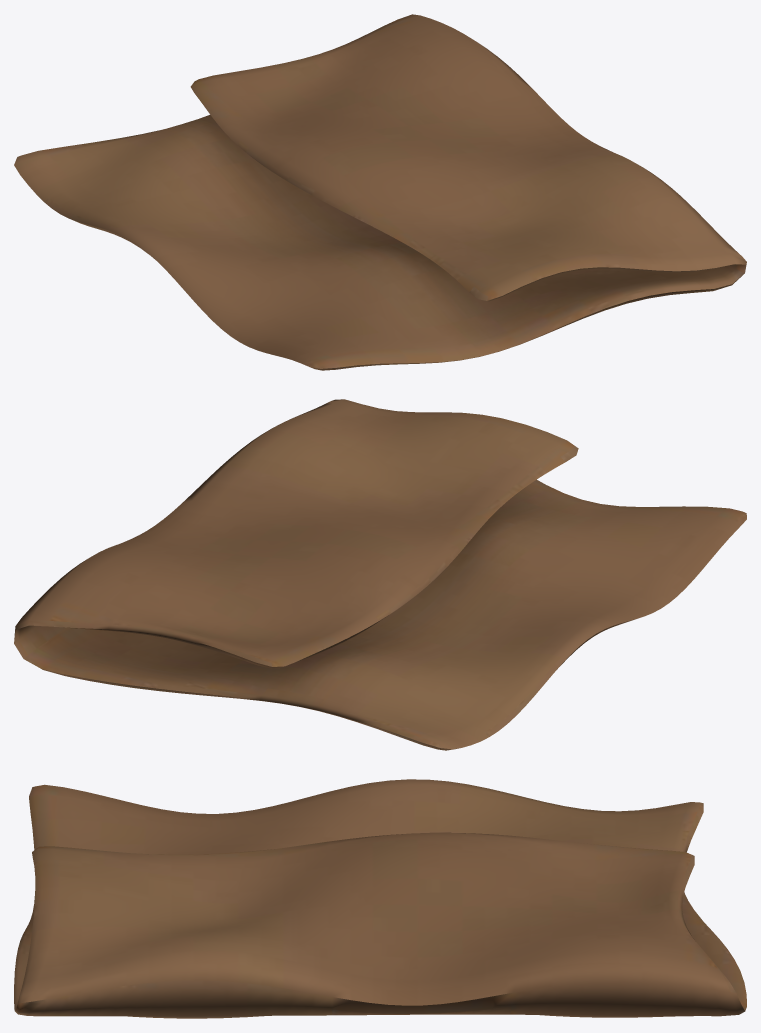
File: raw_hide.glb
The picture shows the model from 3 angles, top to bottom: view 1: azimuth 30°, elevation 25°; view 2: azimuth 150°, elevation 25°; view 3: azimuth 270°, elevation 25°; orthographic projection. The views are drawn at different scales.
Parts seen in each view (by area): view 1: raw_hide; view 2: raw_hide; view 3: raw_hide.
Boxes of the visible parts, x1=… form: raw_hide: x1=14, y1=14, x2=746, y2=370; raw_hide: x1=14, y1=399, x2=746, y2=750; raw_hide: x1=14, y1=779, x2=746, y2=1018.
Size of the model in its own units: 0.176 by 0.0282 by 0.2326.
1 material, 1 textured.
